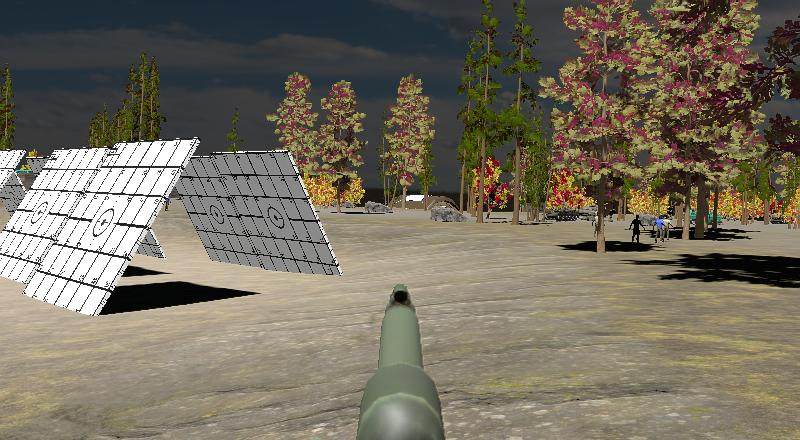Human: (654, 213, 669, 244), (629, 214, 643, 246)
Tank: (544, 204, 580, 223)
